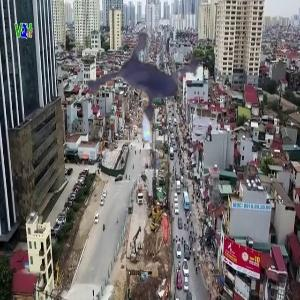drone: (53, 14, 234, 195)
